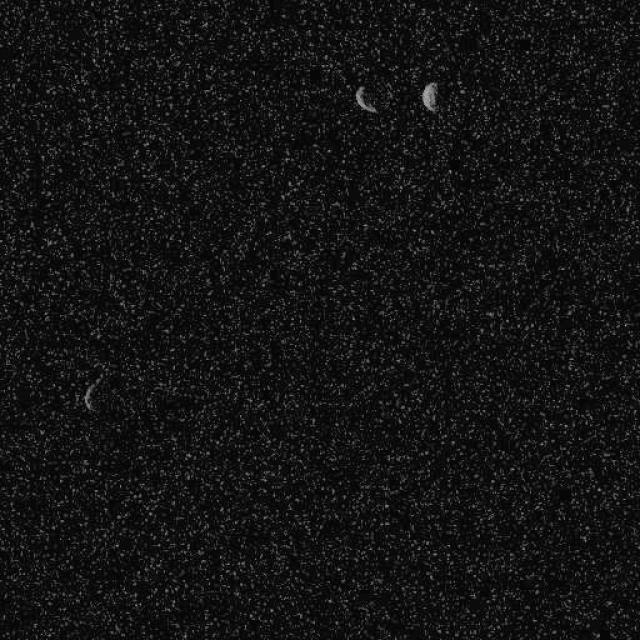D2: (81, 368, 105, 414), (353, 84, 378, 114), (420, 80, 439, 112)
